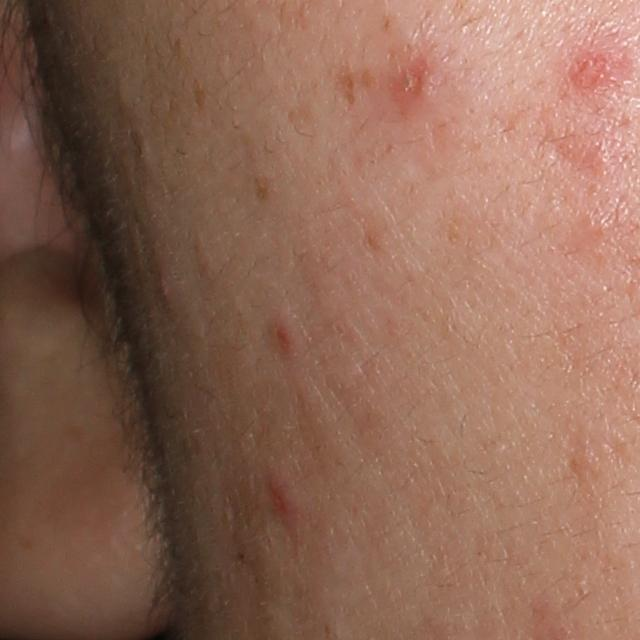papule: (262, 474, 305, 526), (573, 45, 625, 85), (270, 315, 297, 359), (154, 267, 179, 305)
